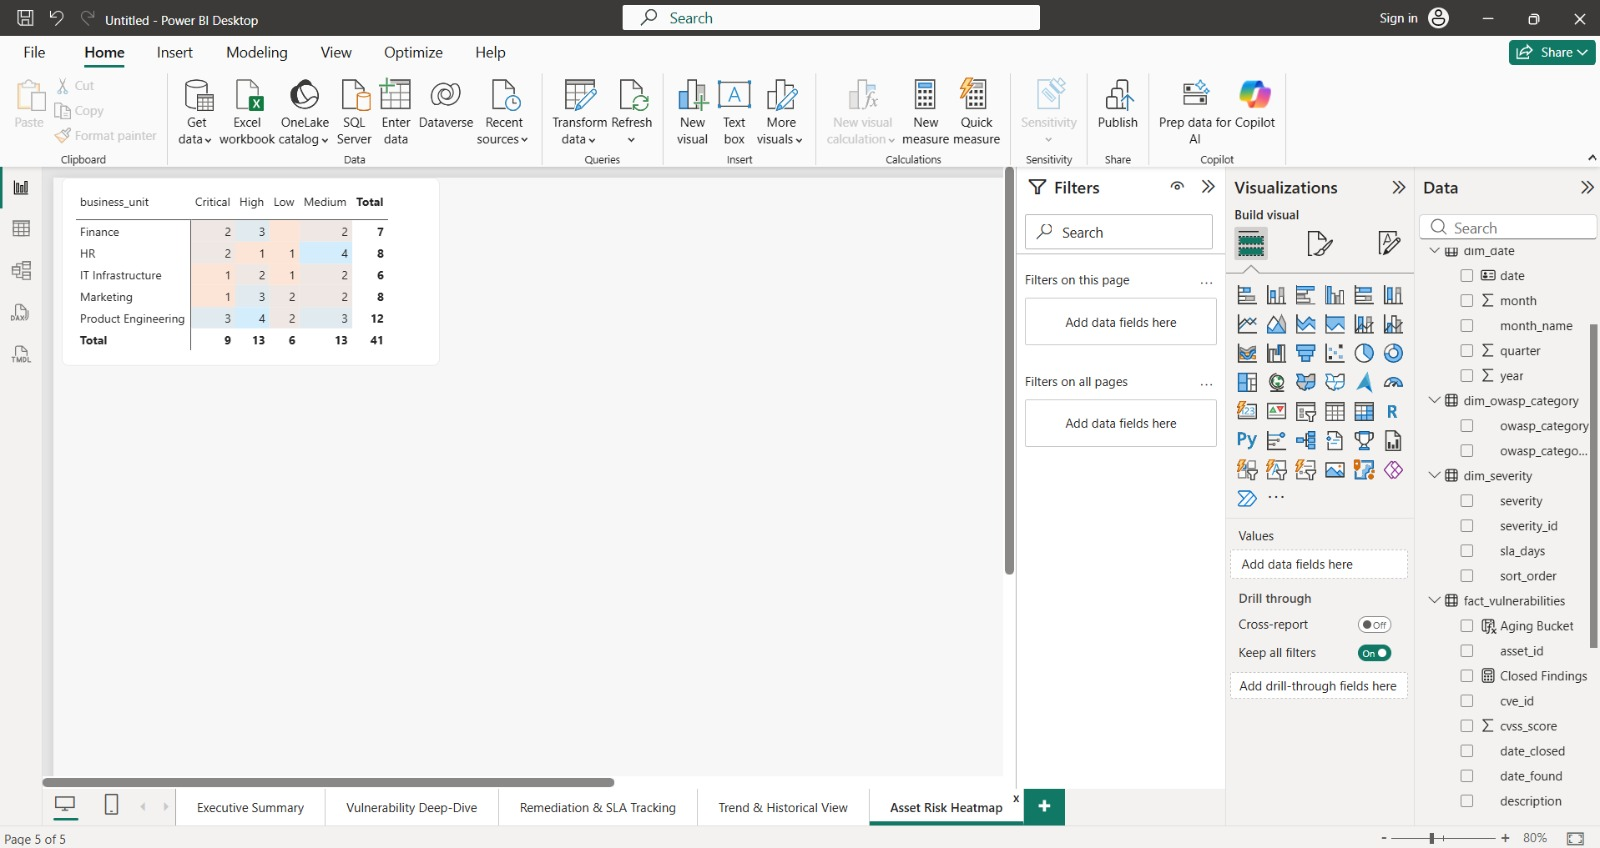

The page's visual inventory and layout, read from the dashboard file:
{"tool":"powerbi","page":{"name":"Asset Risk Heatmap","canvas":[1920,1080],"ordinal":4},"visuals":[{"type":"pivotTable","fields":{"Columns":["dim_severity.severity"],"Rows":["dim_asset.business_unit"],"Values":["CountNonNull(fact_vulnerabilities.finding_id)"]},"box":[10,0,452.9,225.7],"z":0}]}

Visuals, with their boxes on the page's 1920x1080 design canvas (x1, y1, x2, y2). These are canvas units, not pixel positions in the 1600x848 screenshot, which may show the page scaled, cropped or inside an application window:
pivotTable - dim_severity.severity x dim_asset.business_unit: pyautogui.locateOnScreen(10, 0, 463, 226)
